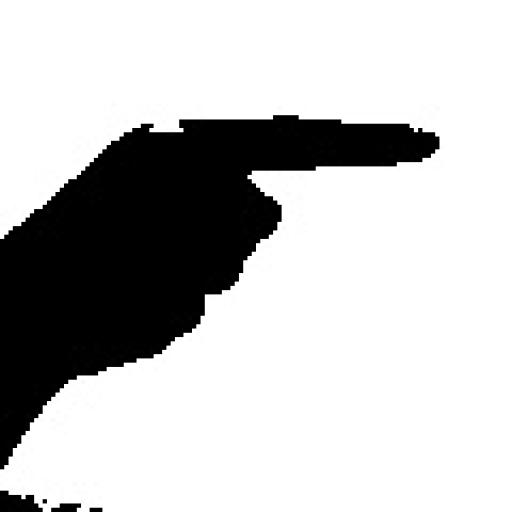index_right: (0, 113, 440, 316)
